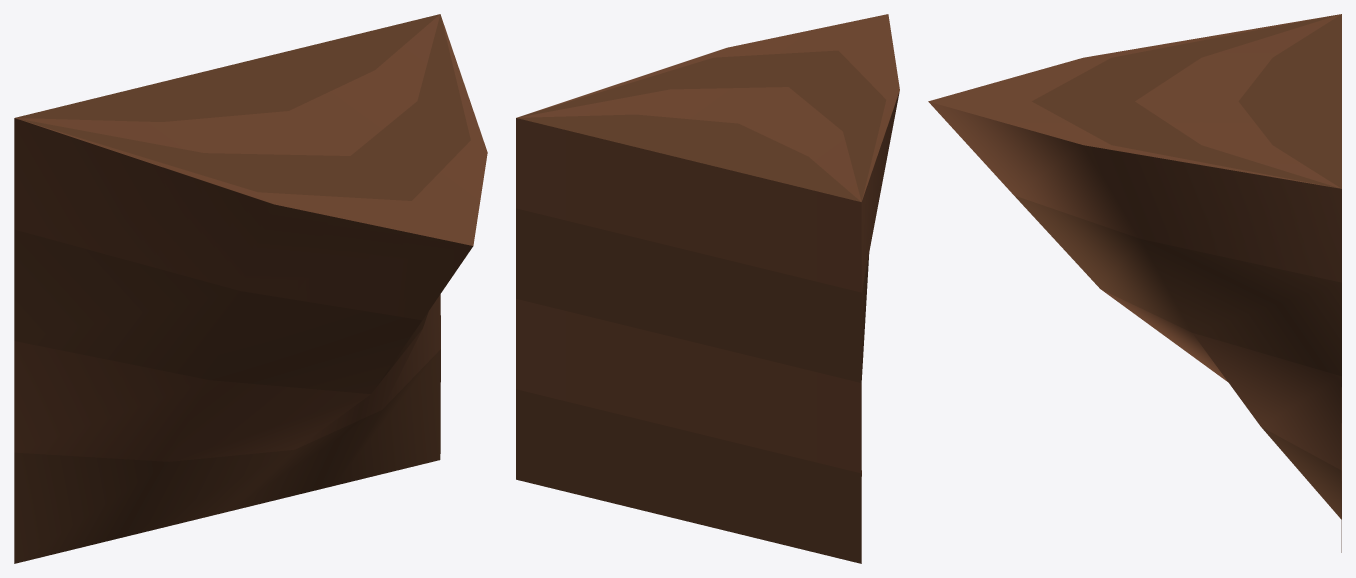
Rendered from Front.fbx.
3 renders of one model, left to right at view 1: azimuth 30°, elevation 25°; view 2: azimuth 150°, elevation 25°; view 3: azimuth 270°, elevation 25°, orthographic. The views are drawn at different scales.
Parts seen in each view (by area): view 1: pCube1; view 2: pCube1; view 3: pCube1.
Part boxes in pixels (x1,y1,x2,y2): pCube1: [14, 14, 487, 563]; pCube1: [516, 14, 899, 563]; pCube1: [928, 14, 1341, 552].
Bounding box in the file's own units: 1 × 1 × 1.
